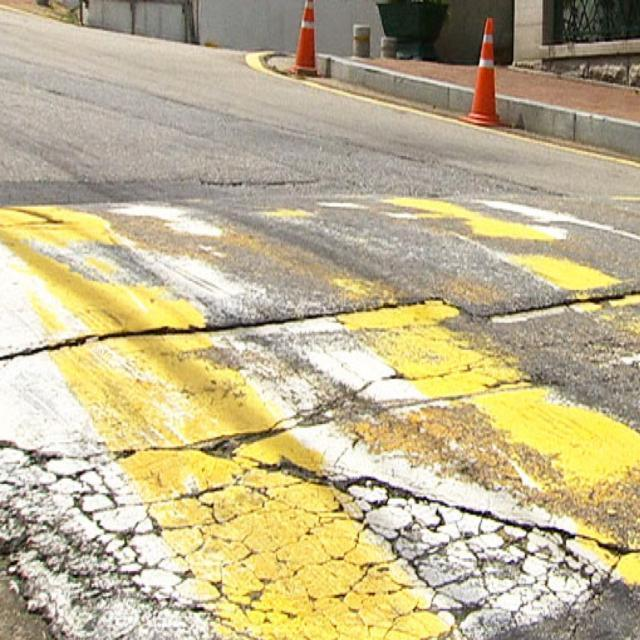Speed_Breaker: (0, 170, 640, 361), (0, 192, 638, 359)
